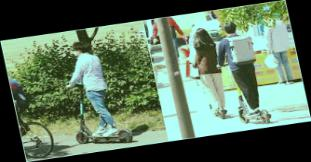nonhelmet: (55, 36, 135, 149), (207, 18, 274, 130)
